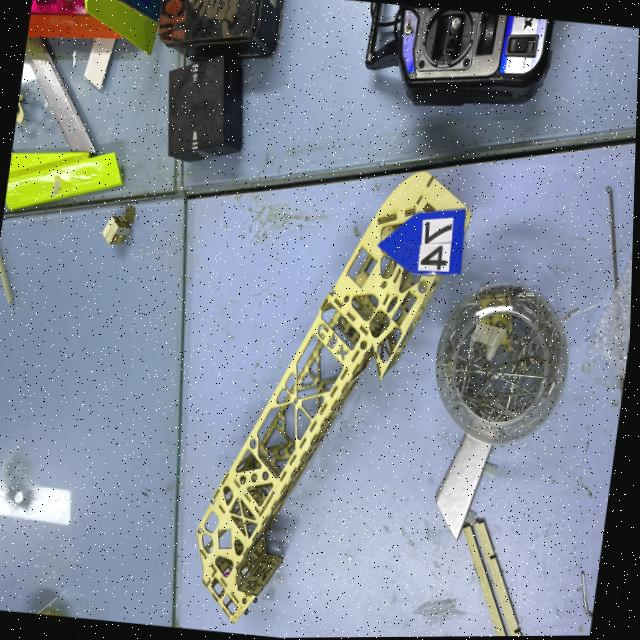board: (378, 207, 469, 274)
